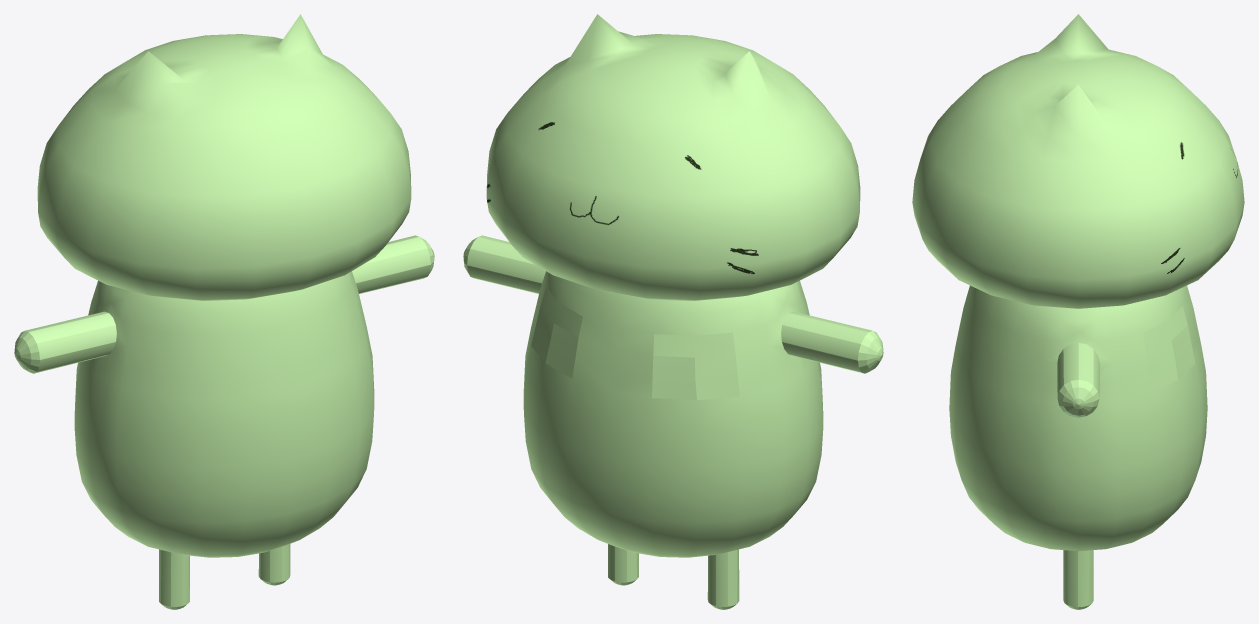
File: xilomitchi.fbx
3 renders of one model, left to right at view 1: azimuth 30°, elevation 25°; view 2: azimuth 150°, elevation 25°; view 3: azimuth 270°, elevation 25°, orthographic. The views are drawn at different scales.
Parts seen in each view (by area): view 1: xilomitchi; view 2: xilomitchi; view 3: xilomitchi.
Part boxes in pixels (<box>): xilomitchi: <box>14,14,434,609</box>; xilomitchi: <box>463,14,883,609</box>; xilomitchi: <box>912,14,1244,609</box>.
Size of the model in its own units: 4.26 by 5.51 by 3.09.
